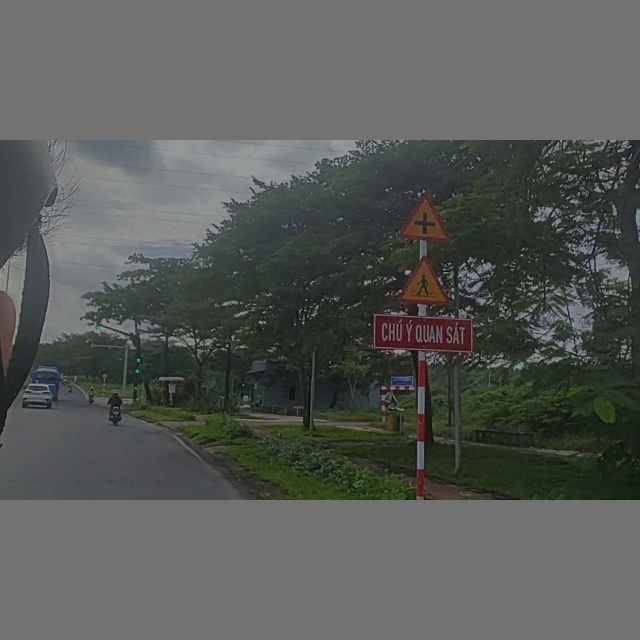W.205a: (400, 195, 456, 245)
W.224: (398, 255, 455, 307)
